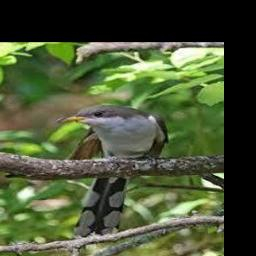Cuckoo: (56, 104, 169, 238)
